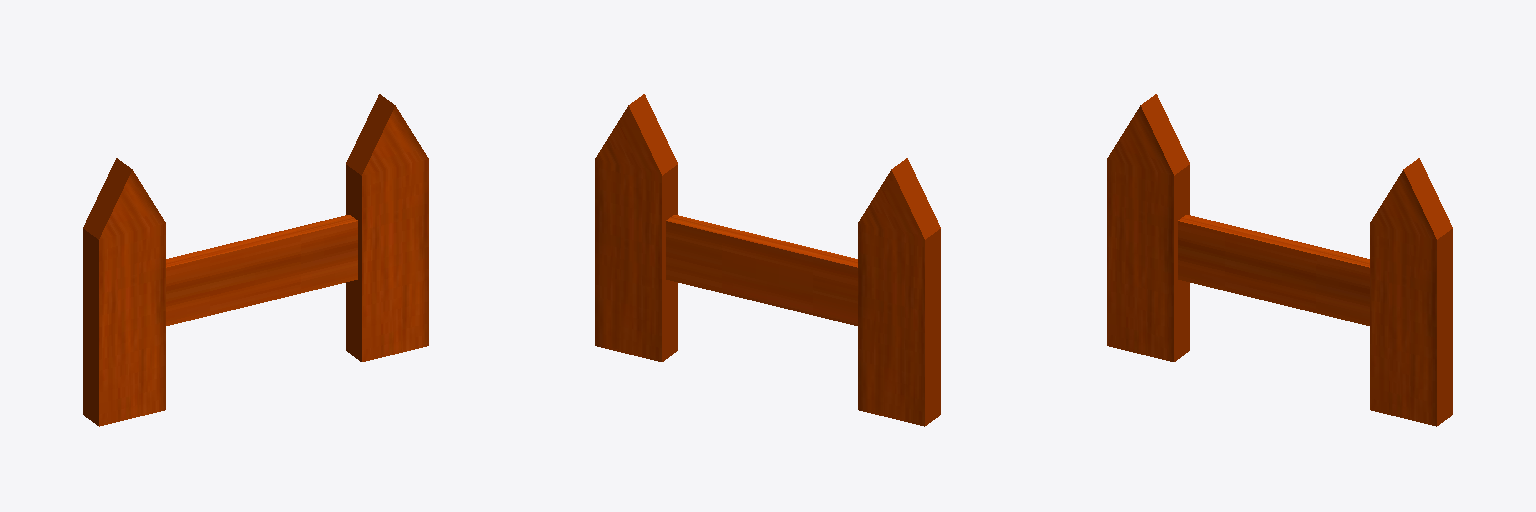
3 renders of one model, left to right at view 1: azimuth 30°, elevation 25°; view 2: azimuth 150°, elevation 25°; view 3: azimuth 330°, elevation 25°, orthographic.
Visible parts, largest first — view 1: pCube3; view 2: pCube3; view 3: pCube3.
Part boxes in pixels (x1,y1,x2,y2): pCube3: (83,94,428,426); pCube3: (595,94,940,426); pCube3: (1107,94,1452,426).
Bounding box in the file's own units: 4.89 × 3.53 × 0.4132.
1 materials, 1 textured.